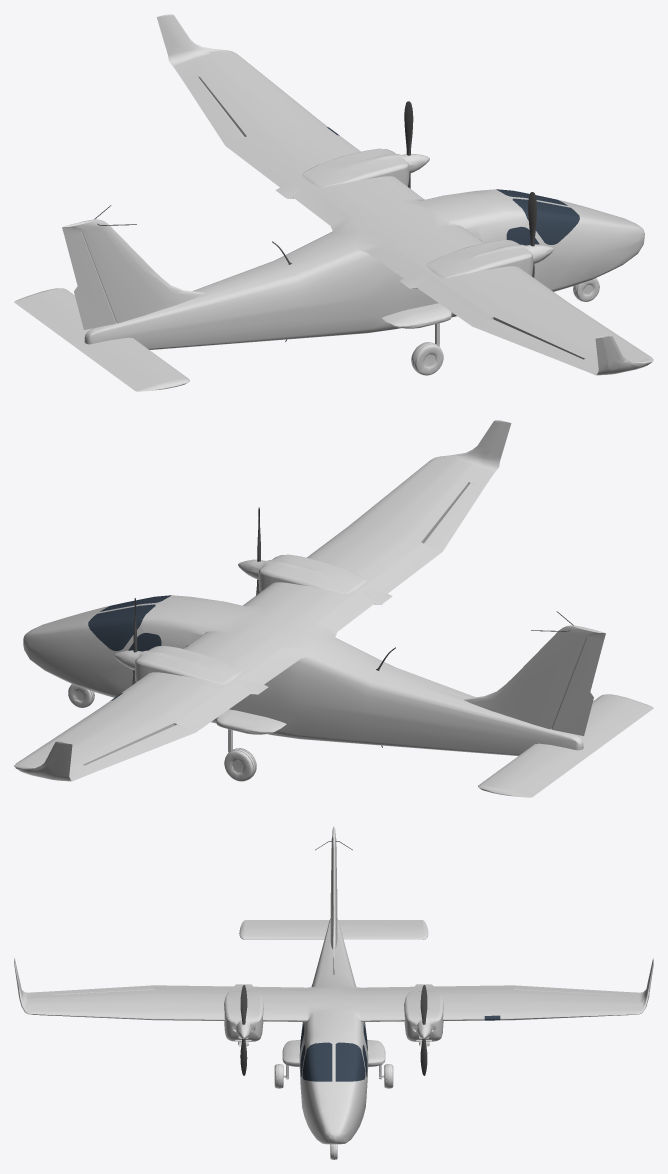
3 renders of one model, top to bottom at view 1: azimuth 30°, elevation 25°; view 2: azimuth 150°, elevation 25°; view 3: azimuth 270°, elevation 25°, orthographic. The views are drawn at different scales.
Visible parts, largest first — view 1: body, glass; view 2: body, glass; view 3: body, glass.
Part boxes in pixels (<box>): body: <box>14,14,653,391</box>; glass: <box>327,127,579,245</box>; body: <box>14,420,653,797</box>; glass: <box>88,595,188,700</box>; body: <box>14,826,653,1159</box>; glass: <box>300,1015,500,1081</box>.
Size of the model in its own units: 1.68 by 0.5574 by 2.2.
